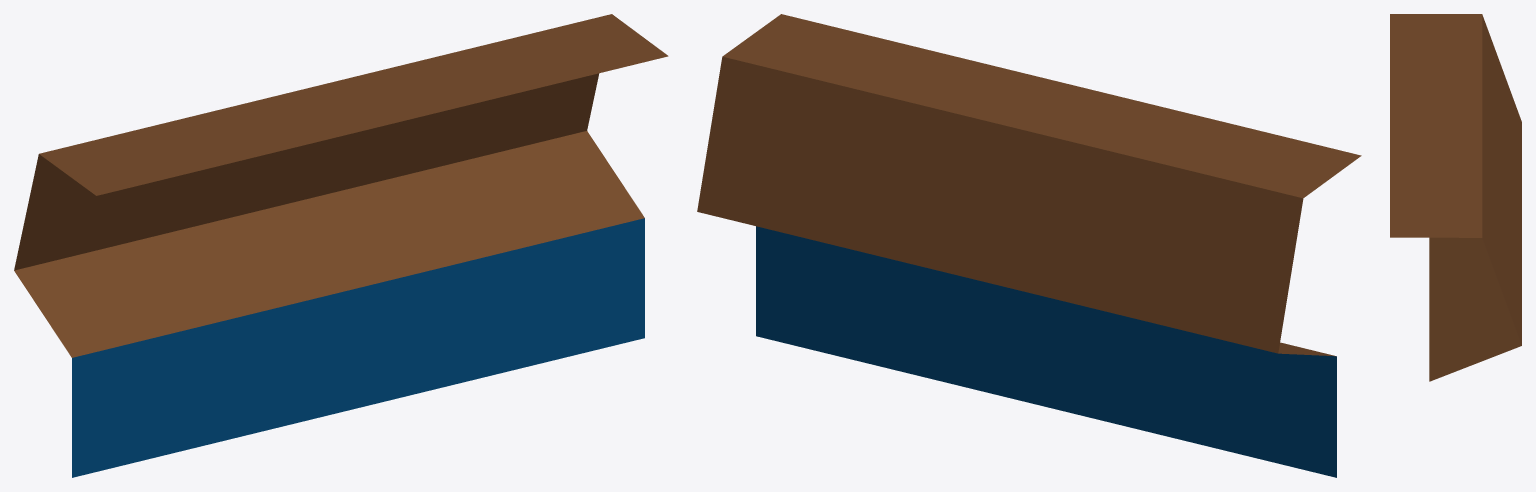
Rendered from Walls1.fbx.
3 views of the same model, side by side, from view 1: azimuth 30°, elevation 25°; view 2: azimuth 150°, elevation 25°; view 3: azimuth 270°, elevation 25° (orthographic). The views are drawn at different scales.
Parts seen in each view (by area): view 1: Walls; view 2: Walls; view 3: Walls.
Boxes of the visible parts, x1,y1,x2,y2 form: Walls: (14,14,668,477); Walls: (697,14,1361,477); Walls: (1390,14,1521,381).
Size of the model in its own units: 4 by 2 by 0.9961.
1 material, 1 textured.
